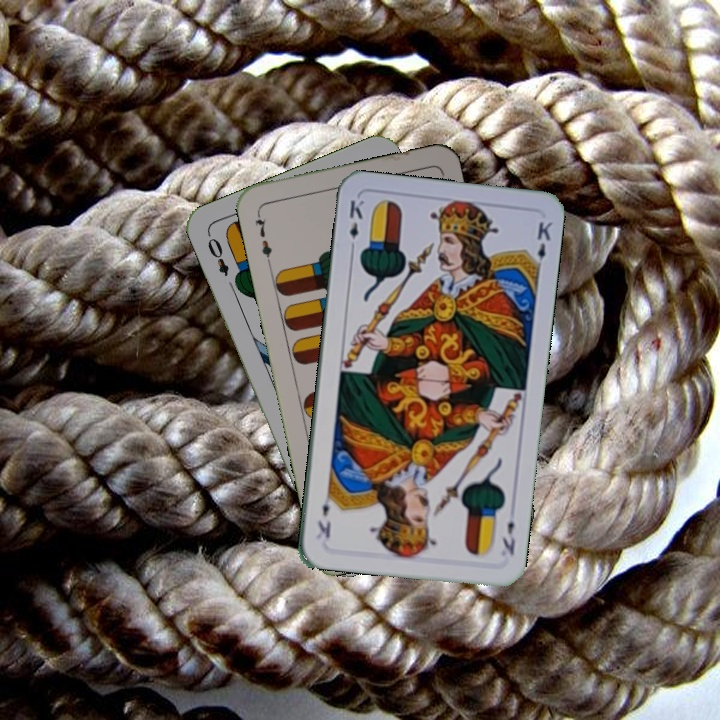E7: (251, 208, 275, 267)
EK: (345, 196, 367, 254), (498, 516, 518, 558)
EO: (203, 233, 232, 279)
